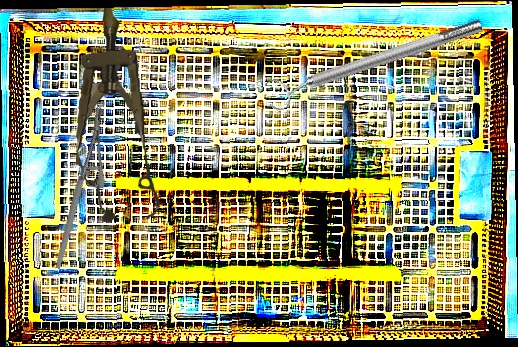Fixation Ring: (263, 10, 487, 113)
Needle Holder: (8, 104, 148, 270)
Speculum: (65, 5, 165, 224)
